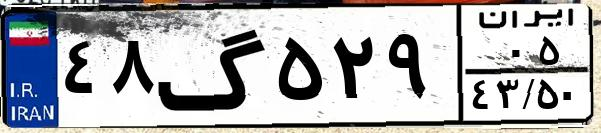0: (560, 70, 590, 125), (508, 27, 537, 80)
2: (330, 28, 385, 110)
3: (495, 70, 520, 125)
4: (57, 26, 110, 100), (470, 70, 495, 125)
5: (270, 28, 330, 110), (537, 27, 568, 80), (535, 70, 560, 125)
8: (110, 28, 156, 98)
9: (385, 28, 445, 110)
گ: (156, 12, 270, 120)
